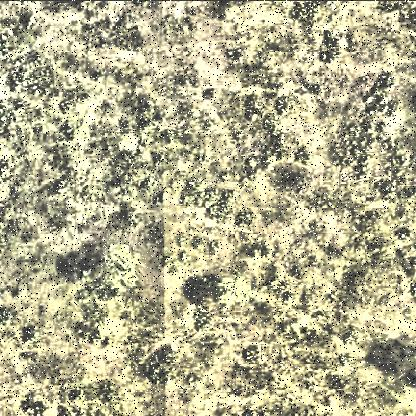tree-top: (96, 247, 140, 291), (205, 276, 249, 310)
